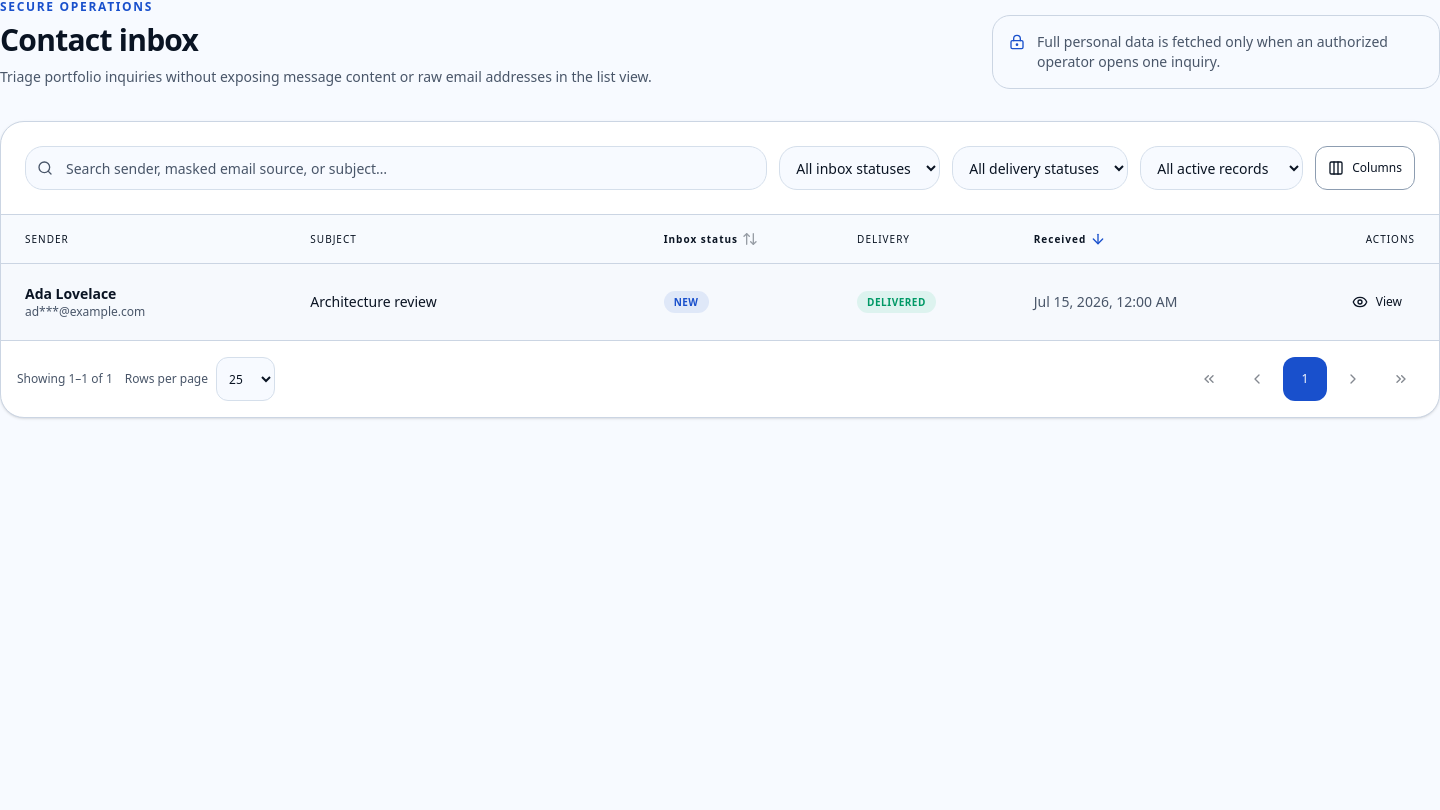
contact inbox workspace › keeps list PII redacted, loads detail on demand, and applies an allowed transition
Check: the text "Ada Lovelace" is shown, box [25,284,116,303]
Check: the text "ad***@example.com" is shown, box [25,303,145,320]
Click the button named "View inquiry from Ada Lovelace" at x=1377, y=302, box [1339,280,1415,324]
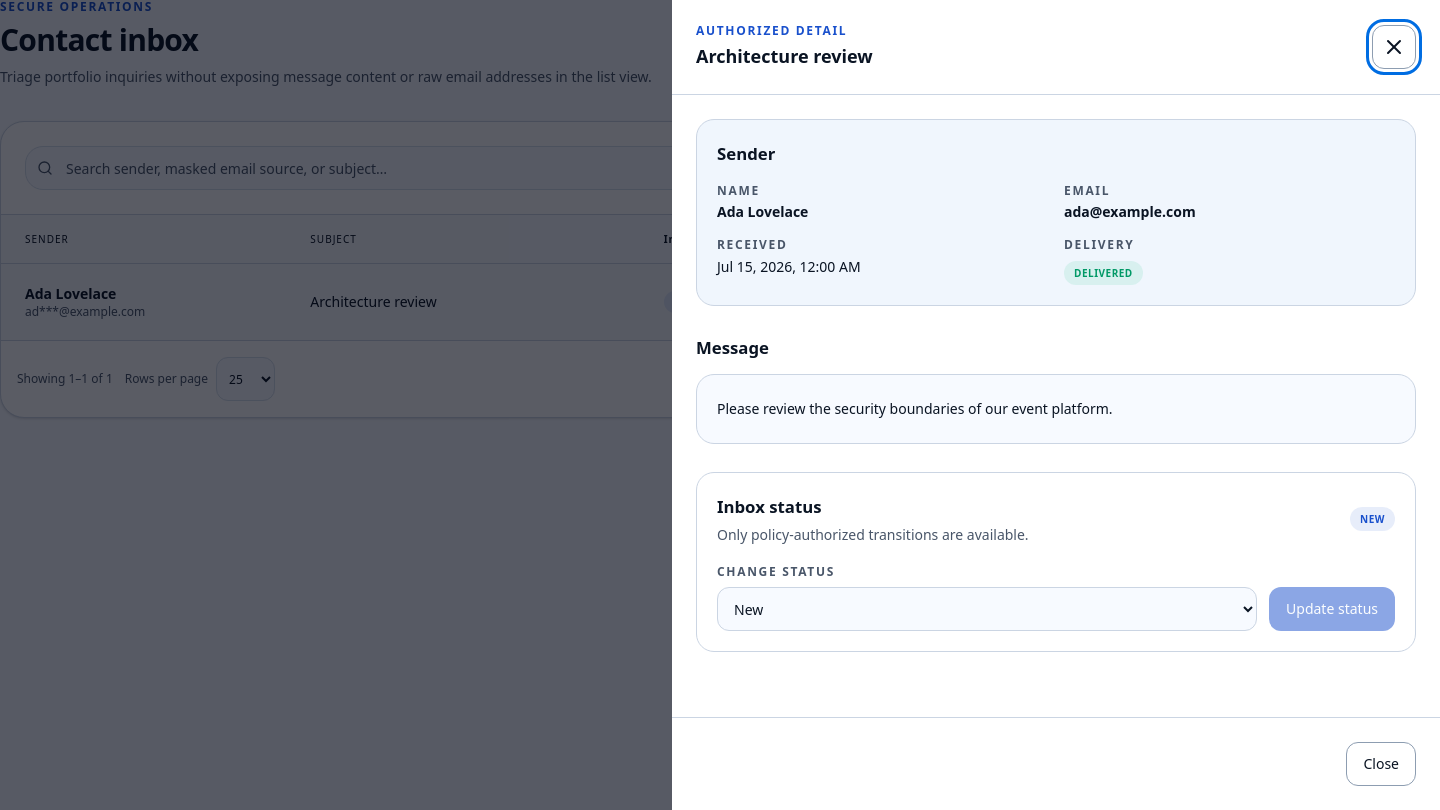
Check: the text "ada@example.com" is shown, box [1064,202,1196,221]
Check: the text "Please review the security boundaries of our event platform." is shown, box [696,374,1416,444]
Select "Read" in the dropdown labelled "Change status" at x=987, y=609, box [717,587,1257,631]
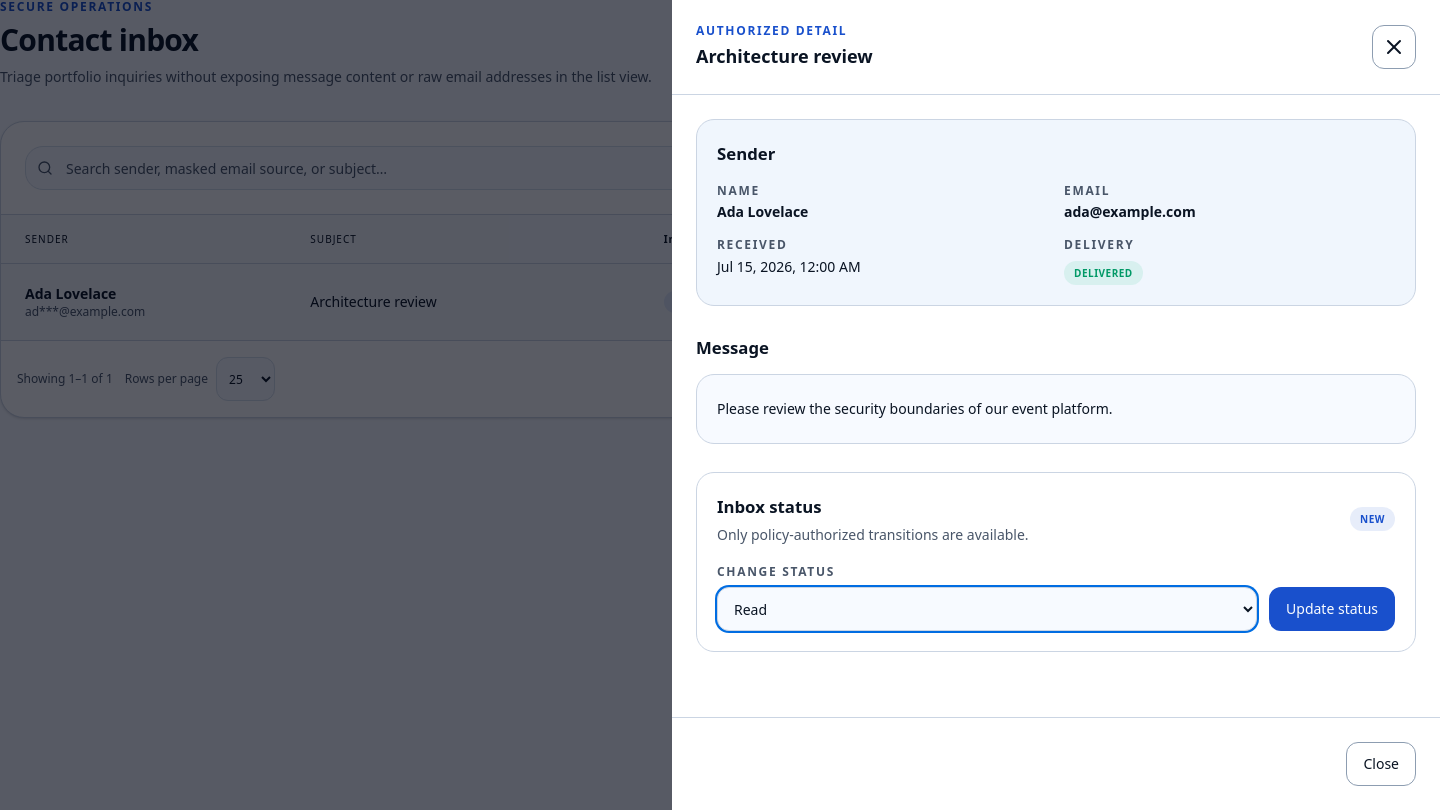
Click the button "Update status" at x=1332, y=609, box [1269,587,1395,631]
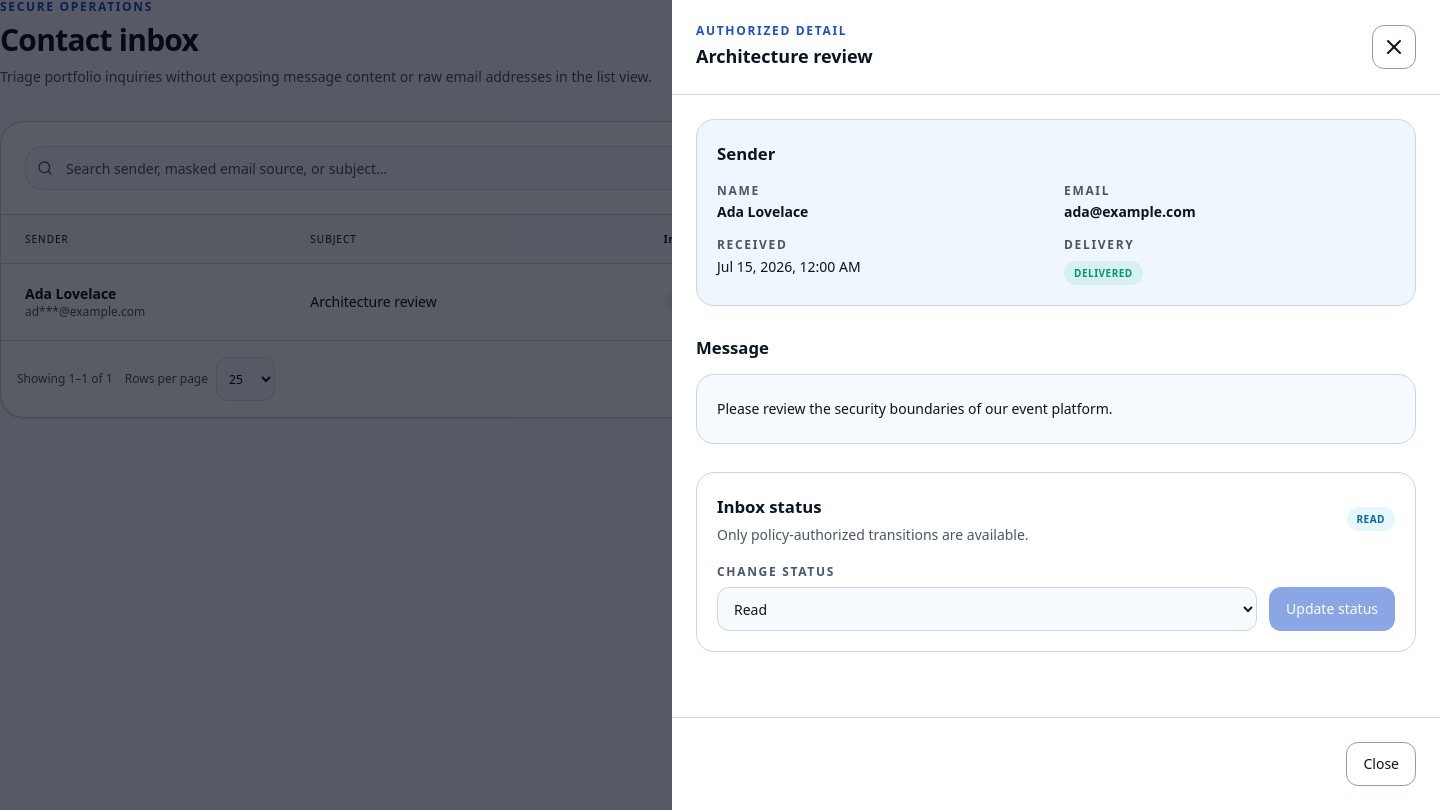
Check: the button "Update status" is disabled, box [1269,587,1395,631]
Press Escape
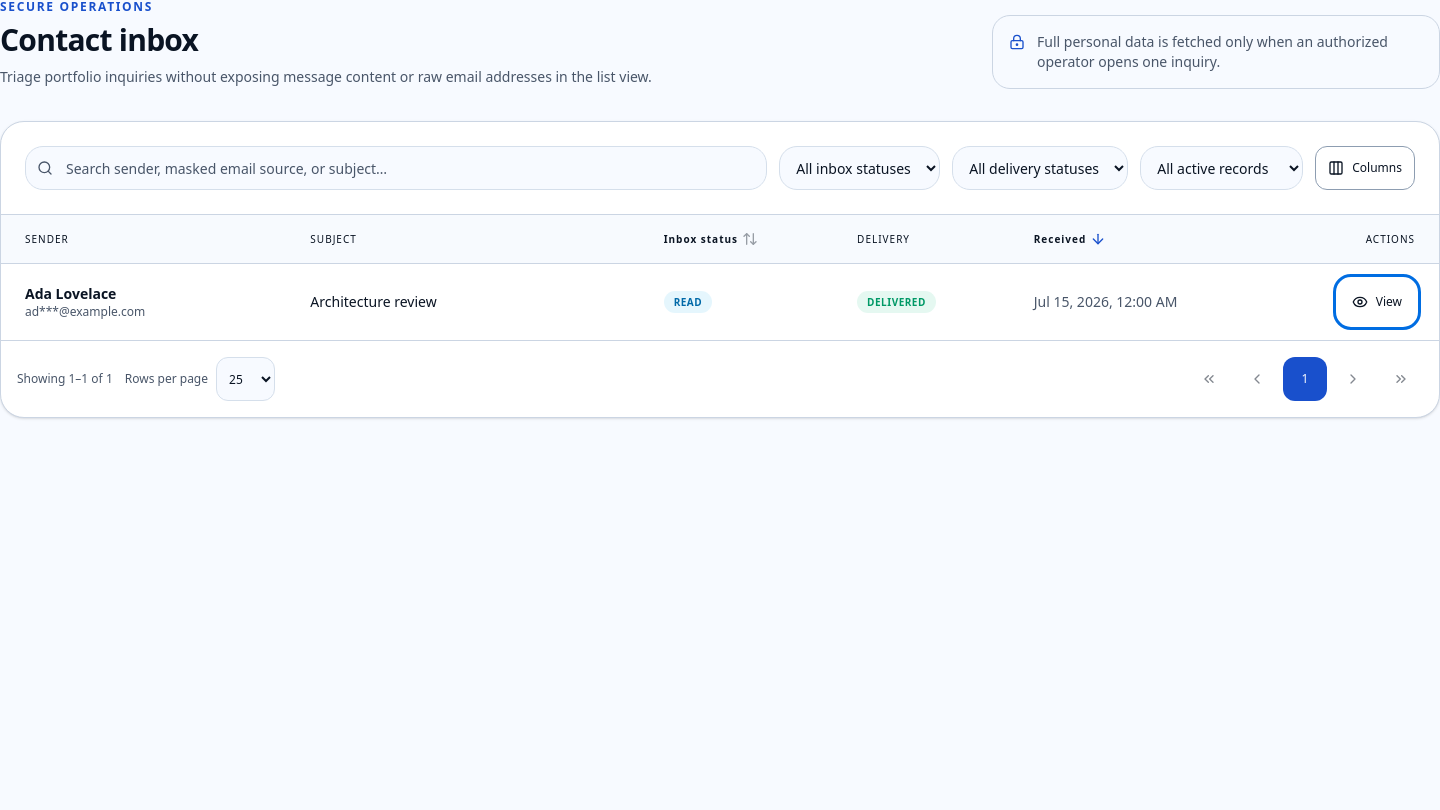
Check: the dialog is gone
Check: the text "ada@example.com" is gone
Check: the text "Please review the security boundaries of our event platform." is gone
